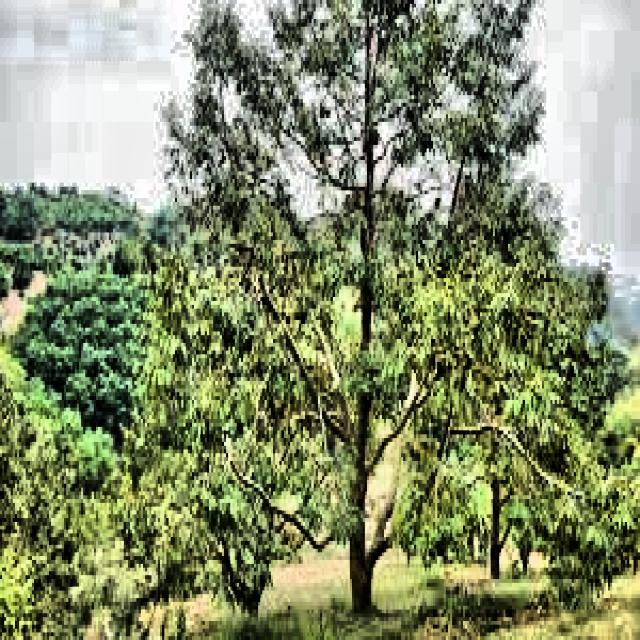arvore: (350, 146, 387, 630)
